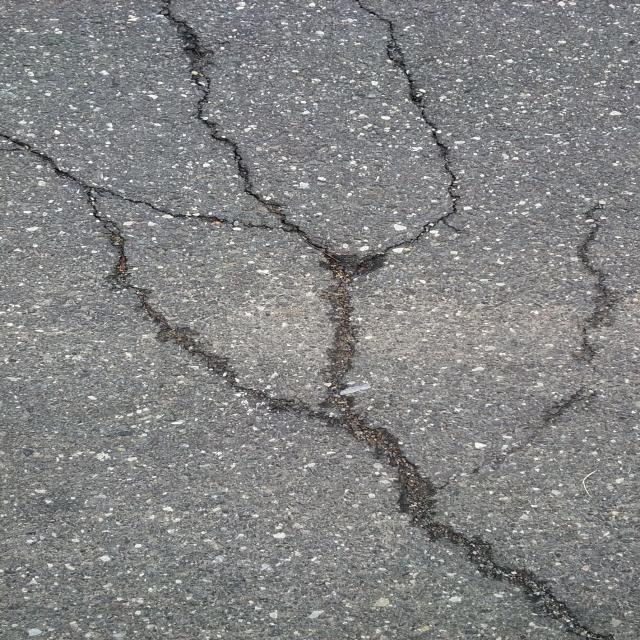Crack: (0, 0, 613, 640), (498, 385, 584, 461), (576, 205, 614, 373)
